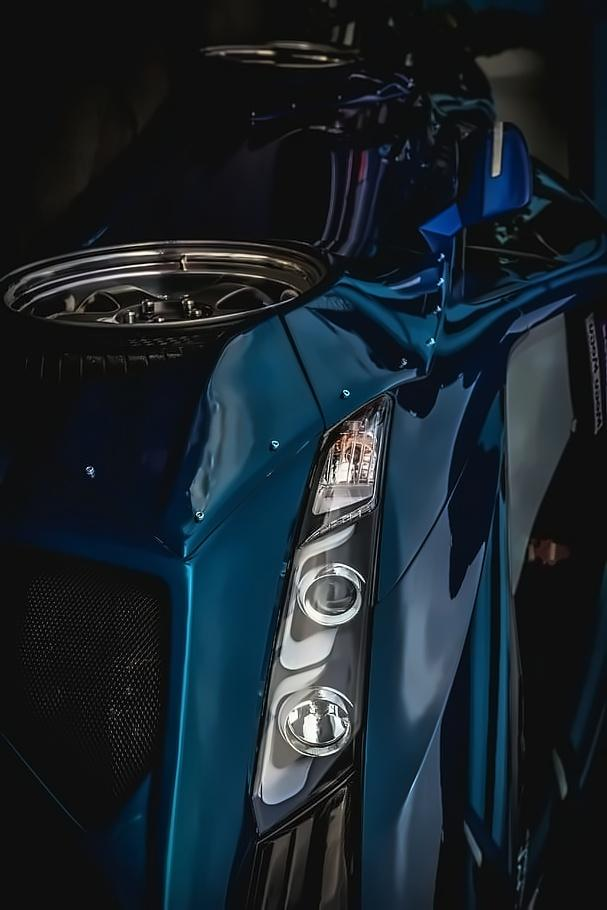Car hood: (358, 369, 529, 910)
Fender - -F-R-: (63, 203, 506, 440)
Front bumper: (0, 299, 333, 910)
Headlight - -R-: (237, 380, 402, 853)
Side mirror - -R-: (411, 70, 542, 269)
